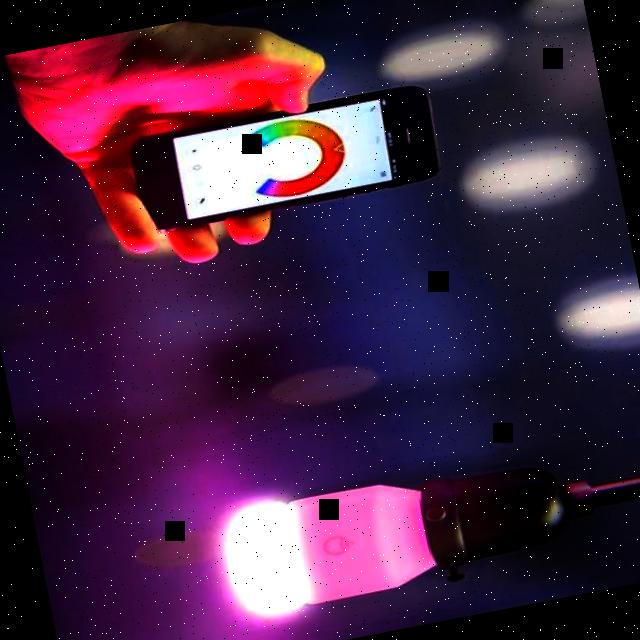light_bulb: (197, 419, 611, 640)
